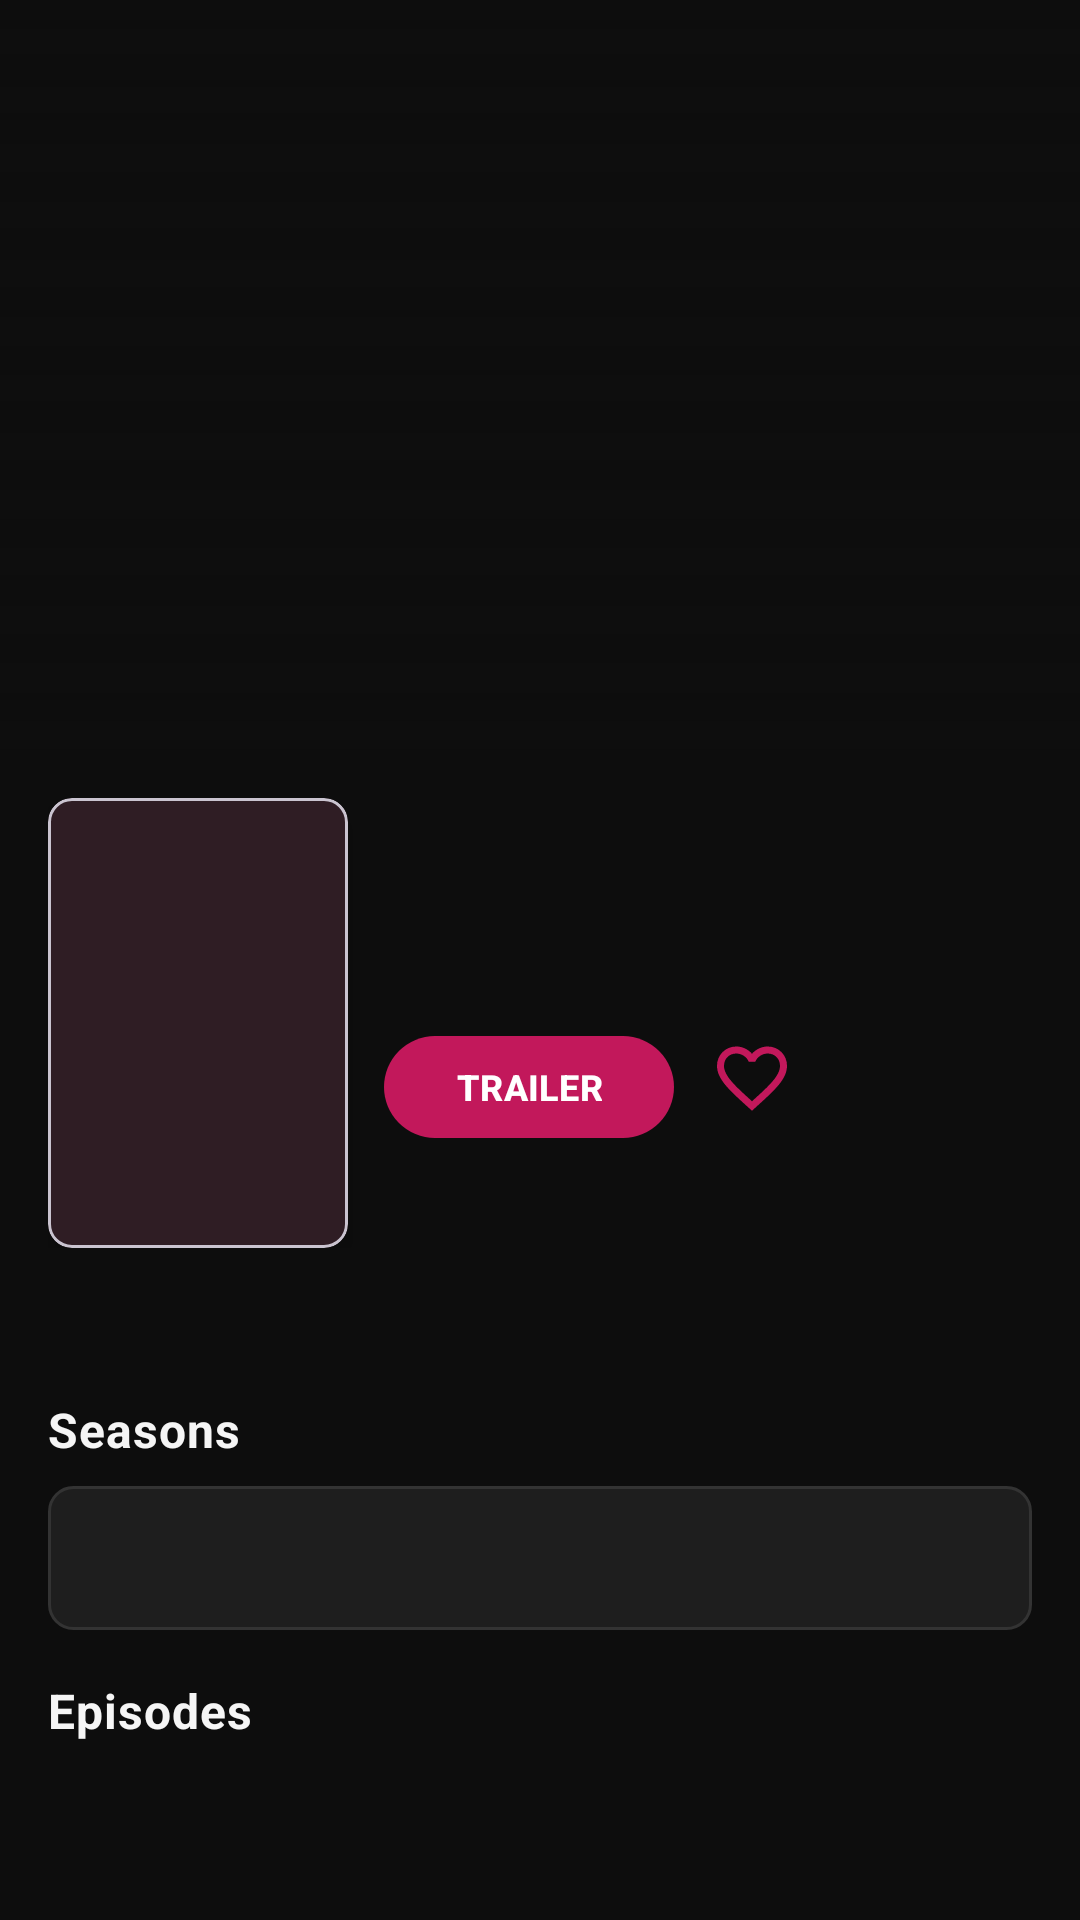

Where to tap for icons on this 1080 x 1920 app screen, as (x,y):
favorite: (752,1078)
